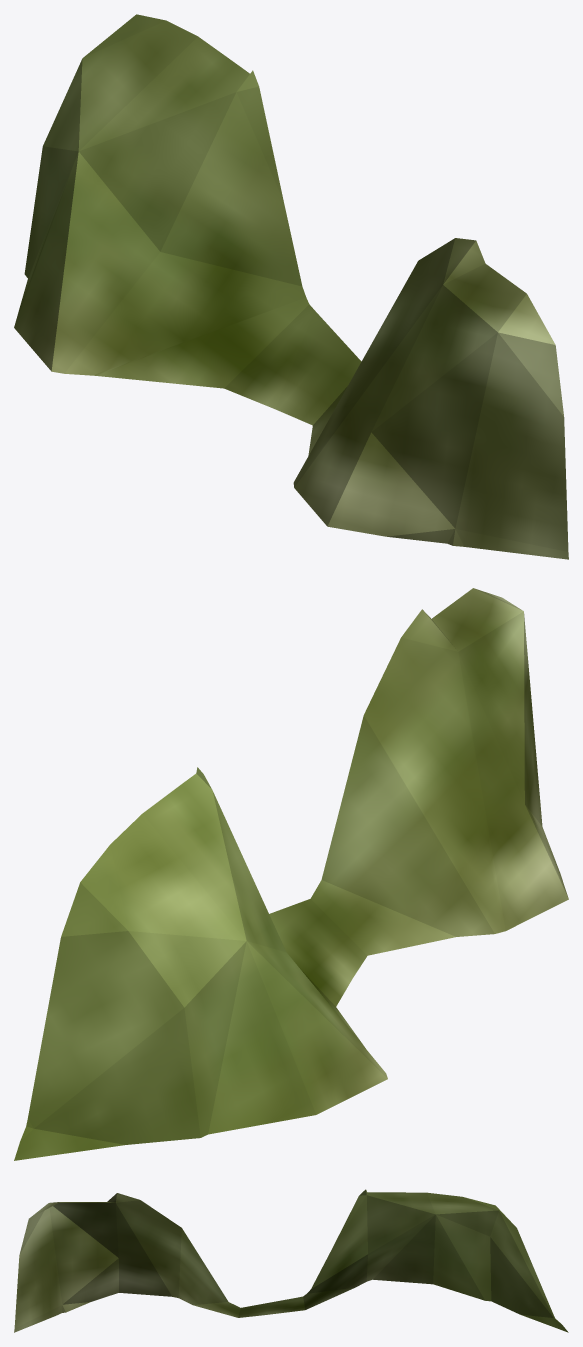
The picture shows the model from 3 angles, top to bottom: view 1: azimuth 30°, elevation 25°; view 2: azimuth 150°, elevation 25°; view 3: azimuth 270°, elevation 25°; orthographic projection. The views are drawn at different scales.
Bounding box in the file's own units: 0.3143 × 0.3968 × 1.39.
Materials: 1 (1 with a texture image).
